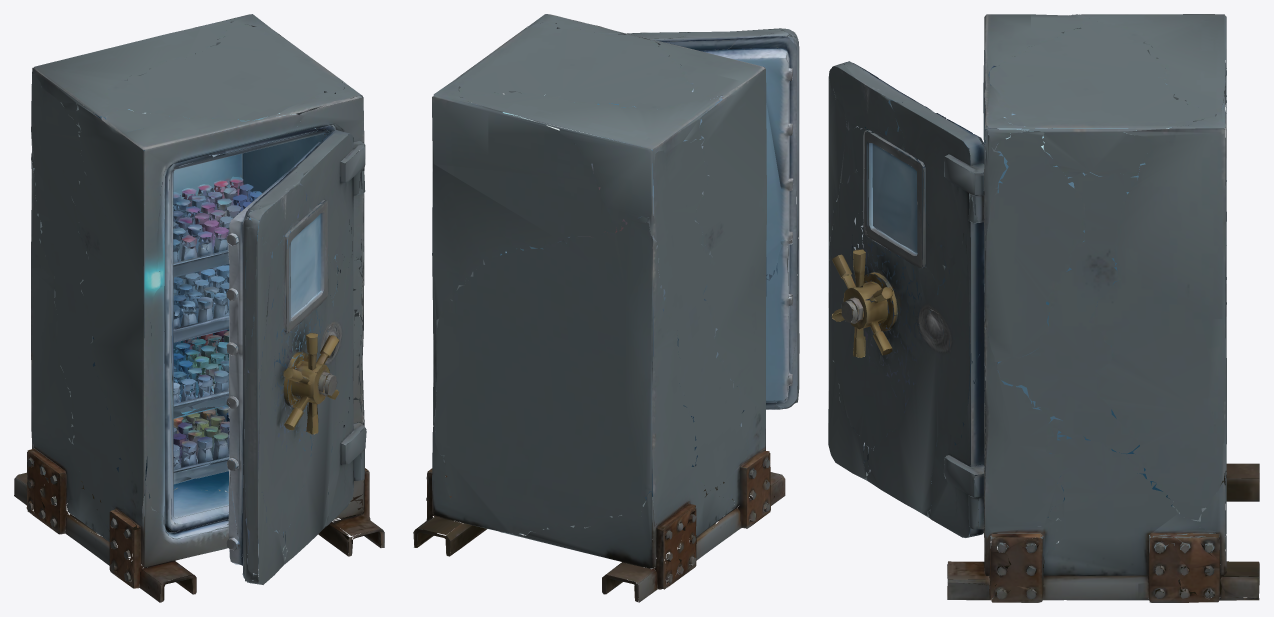
Rendered from hydro_mycelial_seed_vault.glb.
The picture shows the model from 3 angles, left to right: view 1: azimuth 30°, elevation 25°; view 2: azimuth 150°, elevation 25°; view 3: azimuth 270°, elevation 25°; orthographic projection. The views are drawn at different scales.
Visible parts, largest first — view 1: node_0; view 2: node_0; view 3: node_0.
Part boxes in pixels (left/top/right/bottom): node_0: left=14, top=14, right=384, bottom=602; node_0: left=413, top=14, right=799, bottom=602; node_0: left=828, top=14, right=1259, bottom=602.
Size of the model in its own units: 0.4928 by 0.8581 by 0.711.
Materials: 1 (1 with a texture image).
